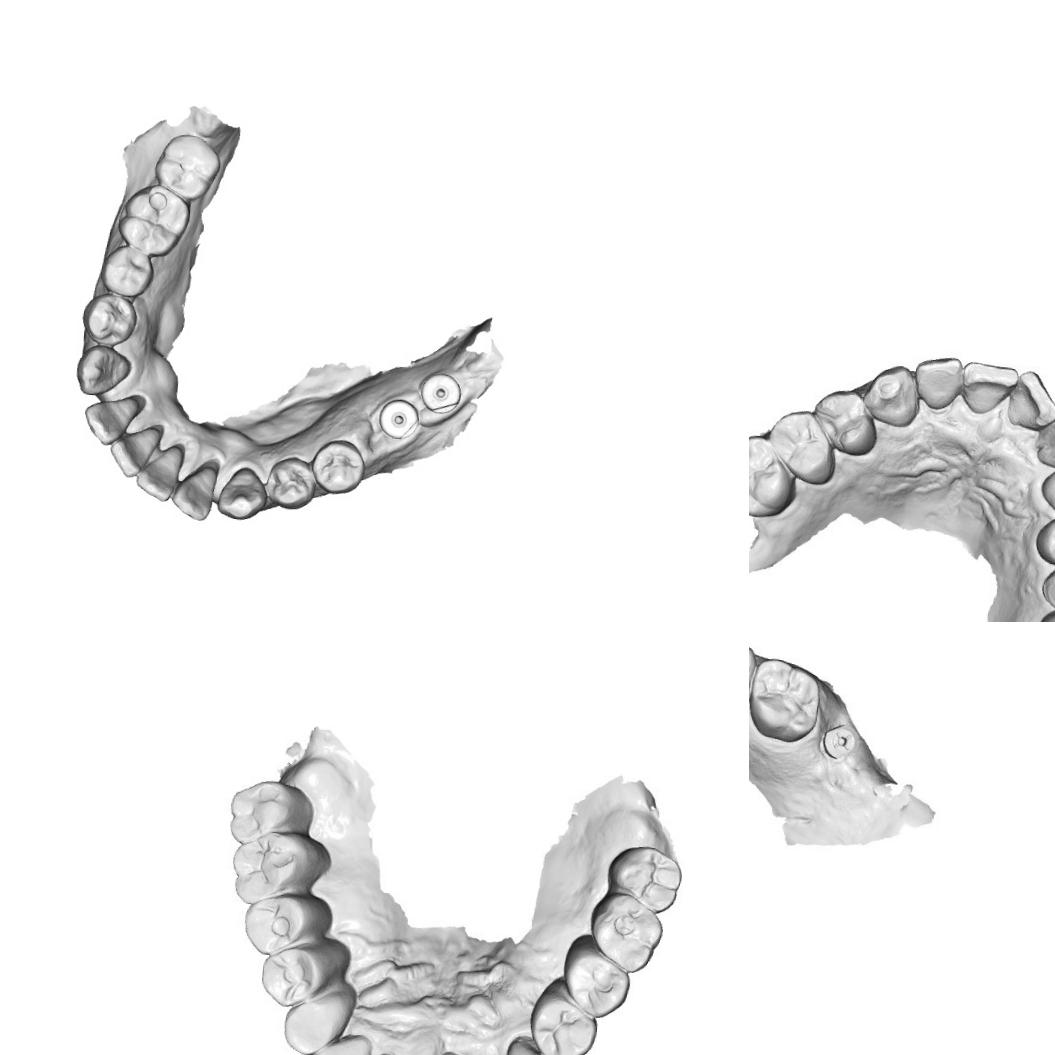canine: (276, 984, 353, 1055), (72, 341, 134, 398), (215, 463, 270, 523), (864, 364, 917, 424), (496, 1033, 557, 1055), (1041, 461, 1055, 515)
implant: (418, 370, 464, 416), (376, 395, 422, 441)
implant_plus: (819, 720, 861, 768)
incisor: (81, 390, 144, 448), (169, 458, 219, 522), (133, 440, 184, 502), (107, 422, 161, 480), (962, 360, 1016, 412), (913, 356, 962, 410), (1006, 370, 1054, 424), (306, 1027, 374, 1055), (1034, 417, 1055, 466)
molar: (749, 655, 827, 745), (585, 887, 664, 974), (114, 180, 192, 258), (230, 831, 312, 904), (607, 842, 686, 910), (150, 130, 224, 202), (225, 778, 293, 844), (749, 435, 792, 517)
premolar: (549, 930, 634, 1020), (520, 974, 603, 1055), (767, 410, 834, 488), (241, 893, 310, 957), (259, 939, 326, 1004), (813, 390, 872, 452), (78, 290, 140, 348), (308, 437, 368, 496), (261, 452, 317, 511), (98, 243, 155, 298)
